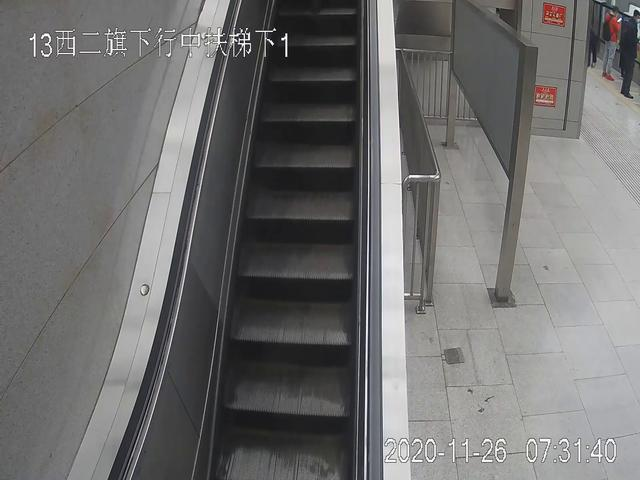person: (614, 9, 640, 101), (600, 6, 621, 80)
